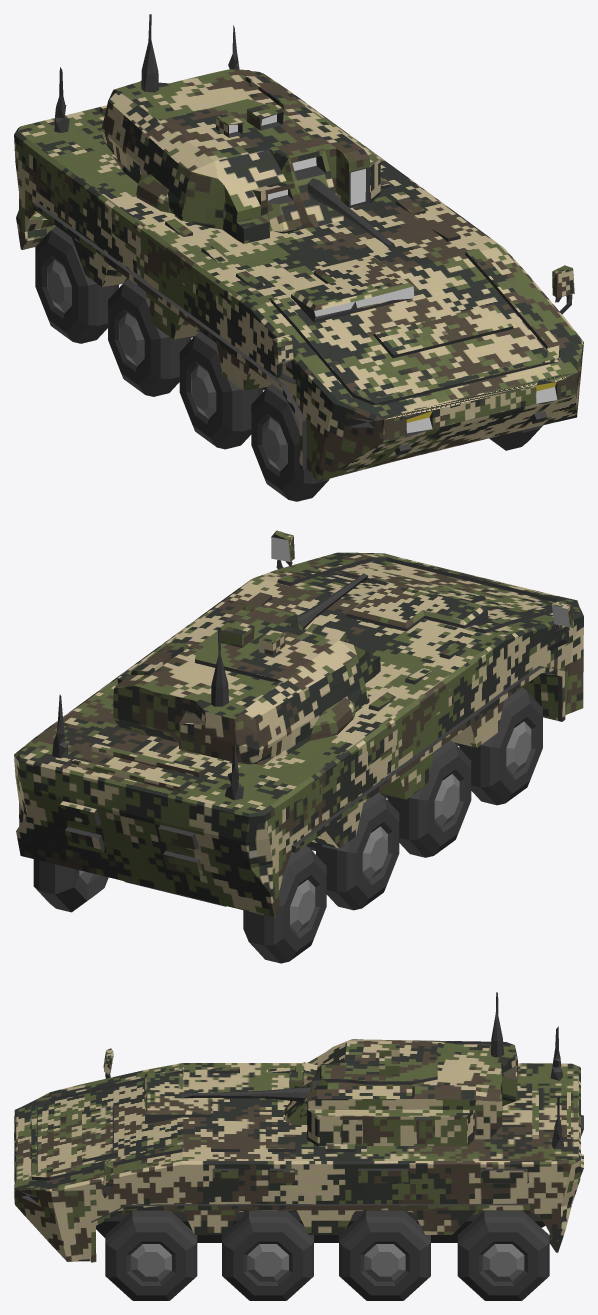
File: ifv.glb
3 renders of one model, top to bottom at view 1: azimuth 30°, elevation 25°; view 2: azimuth 150°, elevation 25°; view 3: azimuth 270°, elevation 25°, orthographic. The views are drawn at different scales.
Visible parts, largest first — view 1: SM_Buzhanche_01; view 2: SM_Buzhanche_01; view 3: SM_Buzhanche_01.
Part boxes in pixels (box(x1,y1,x2,y2)): SM_Buzhanche_01: box(14, 14, 583, 501); SM_Buzhanche_01: box(14, 530, 583, 963); SM_Buzhanche_01: box(14, 992, 583, 1300).
Size of the model in its own units: 3.21 by 3.14 by 6.51.
Materials: 1 (1 with a texture image).
